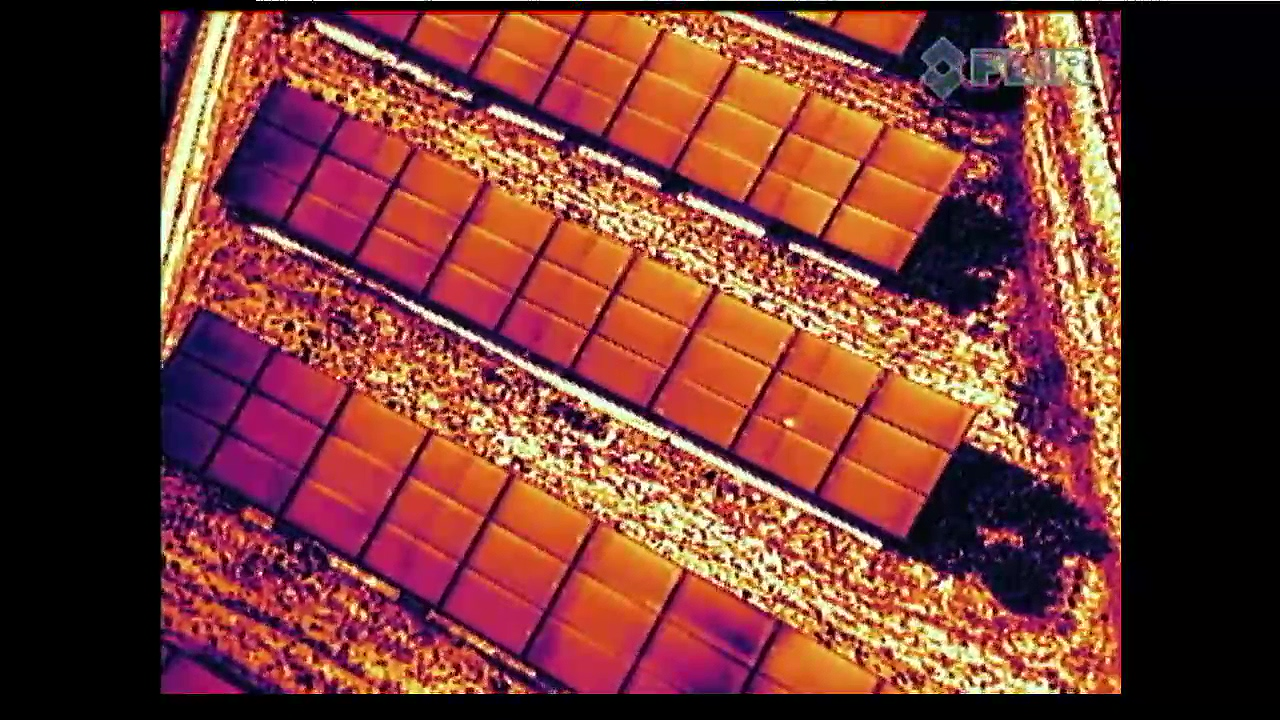hotspot: (715, 331, 887, 499)
